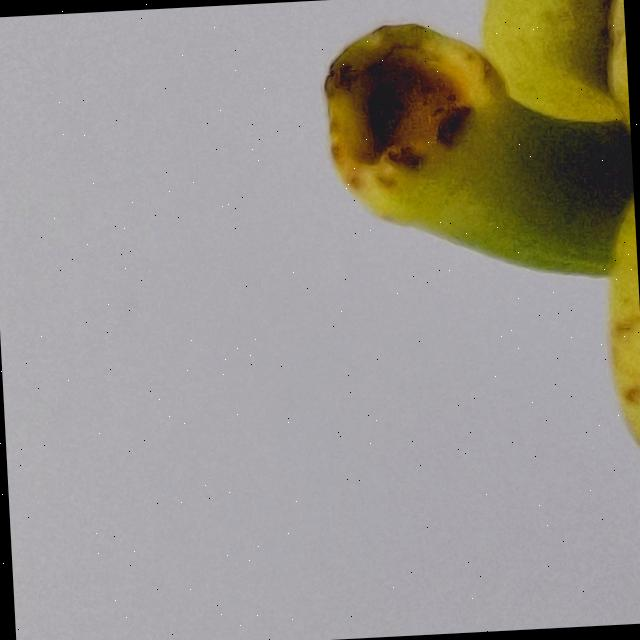mangosteen: (288, 0, 640, 640)
